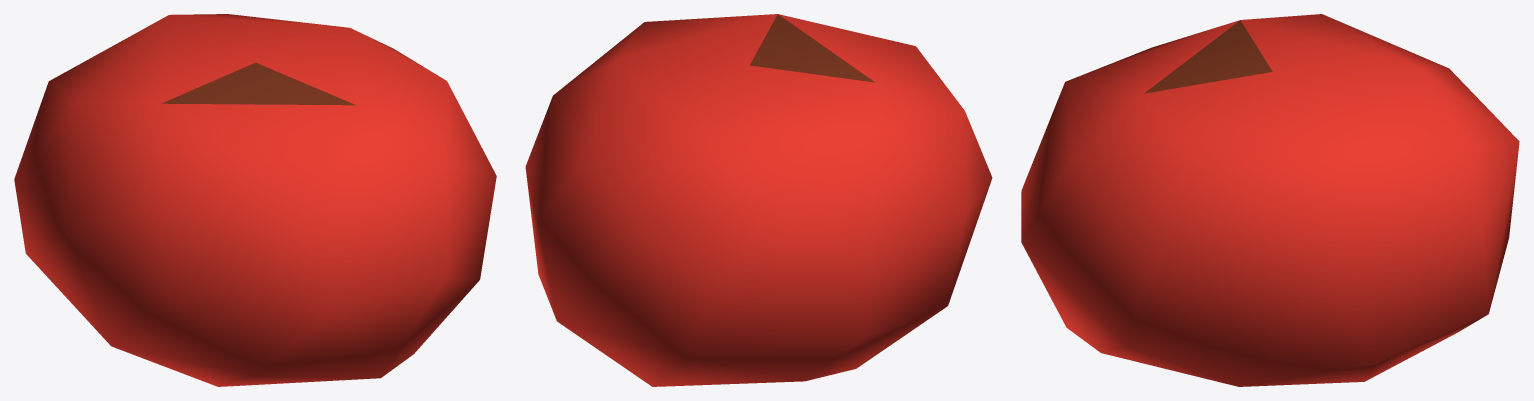
Rendered from Tomate.fbx.
3 views of the same model, side by side, from view 1: azimuth 30°, elevation 25°; view 2: azimuth 150°, elevation 25°; view 3: azimuth 270°, elevation 25° (orthographic).
Visible parts, largest first — view 1: Sphere; view 2: Sphere; view 3: Sphere.
Part boxes in pixels (<box>): Sphere: <box>14,14,496,386</box>; Sphere: <box>525,14,992,386</box>; Sphere: <box>1021,14,1519,386</box>.
Size of the model in its own units: 22.52 by 15.54 by 24.73.
